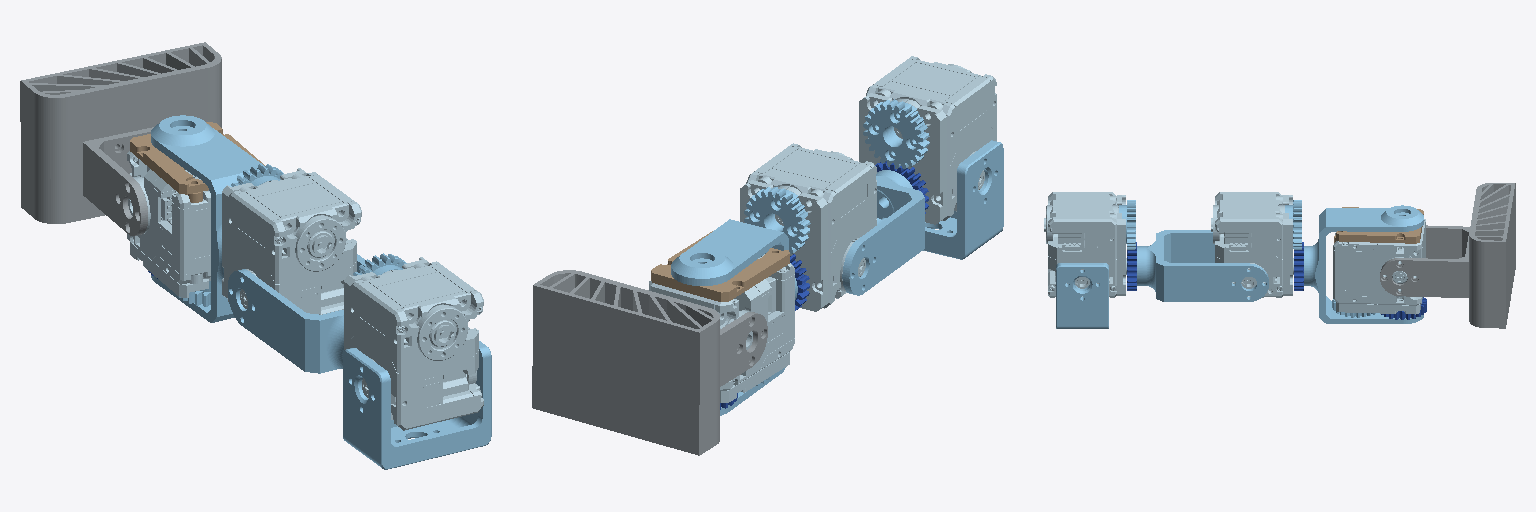
URDF robot description (left_arm_active):
<?xml version="1.0" ?><robot name="left_arm_active">  
  <link name="sho_pitch_link">    
    <visual>      
      <origin xyz="0 0 0" rpy="0 -0 0"/>      
      <geometry>        
        <mesh filename="package:///meshes/left_sho_pitch_link_visual.stl"/>        
      </geometry>      
      <material name="sho_pitch_link_material">        
        <color rgba="0.61568627450980395466 0.81176470588235294379 0.92941176470588227065 1.0"/>        
      </material>      
    </visual>    
    <collision>      
      <origin xyz="0 0 0" rpy="0 -0 0"/>      
      <geometry>        
        <mesh filename="package:///meshes/left_sho_pitch_link_collision.stl"/>        
      </geometry>      
    </collision>    
    <inertial>      
      <origin xyz="-1.025903438159899119e-18 -2.1966078074444220184e-18 0.012913250798677602602" rpy="0 0 0"/>      
      <mass value="0.0085999999999999982708"/>      
      <inertia ixx="1.8365636406635814379e-06" ixy="0" ixz="0" iyy="4.0110869076839152165e-06" iyz="0" izz="3.5160516450492493809e-06"/>      
    </inertial>    
  </link>  

  <link name="2xl430_gears">    
    <visual>      
      <origin xyz="0 0 0" rpy="0 -0 0"/>      
      <geometry>        
        <mesh filename="package:///meshes/left_2xl430_gears_visual.stl"/>        
      </geometry>      
      <material name="2xl430_gears_material">        
        <color rgba="0.75914767920569214965 0.85560384745670925444 0.90519468321360607721 1.0"/>        
      </material>      
    </visual>    
    <collision>      
      <origin xyz="0 0 0" rpy="0 -0 0"/>      
      <geometry>        
        <mesh filename="package:///meshes/left_2xl430_gears_collision.stl"/>        
      </geometry>      
    </collision>    
    <inertial>      
      <origin xyz="-0.011592905737981719708 -0.0024238553642539654651 -0.018551095523800652243" rpy="0 0 0"/>      
      <mass value="0.11800003674524911501"/>      
      <inertia ixx="2.7511021050425137297e-05" ixy="9.0043904315059743301e-07" ixz="-2.3349710123436745739e-08" iyy="3.2796197843345773501e-05" iyz="-6.5715119654595532665e-07" izz="3.577573983574187309e-05"/>      
    </inertial>    
  </link>  

  <link name="spur_1m_24t_drive">    
    <visual>      
      <origin xyz="0 0 0" rpy="0 -0 0"/>      
      <geometry>        
        <mesh filename="package:///meshes/left_spur_1m_24t_drive_visual.stl"/>        
      </geometry>      
      <material name="spur_1m_24t_drive_material">        
        <color rgba="0.61568627450980395466 0.81176470588235294379 0.92941176470588238168 1.0"/>        
      </material>      
    </visual>    
    <collision>      
      <origin xyz="0 0 0" rpy="0 -0 0"/>      
      <geometry>        
        <mesh filename="package:///meshes/left_spur_1m_24t_drive_collision.stl"/>        
      </geometry>      
    </collision>    
    <inertial>      
      <origin xyz="3.0326032611483892113e-15 -3.3912620811388928147e-16 0.0048096451474093108655" rpy="0 0 0"/>      
      <mass value="0.0031999999999999997197"/>      
      <inertia ixx="1.409759888701696132e-07" ixy="1.5562823114660456276e-15" ixz="-2.008449854153761406e-29" iyy="1.4097598803635996198e-07" iyz="1.6394294515261297612e-30" izz="2.4107776386988835496e-07"/>      
    </inertial>    
  </link>  

  <joint name="left_sho_yaw_drive" type="fixed">    
    <origin xyz="-0.024000000716141011575 -0.019000000152450600283 -0.019000000152443286688" rpy="1.5707963267948328312 -1.2315316060159674745e-15 7.63621479414374471e-14"/>    
    <parent link="2xl430_gears"/>    
    <child link="spur_1m_24t_drive"/>    
    <axis xyz="0 0 1"/>    
    <limit effort="1" velocity="20"/>    
    <joint_properties friction="0.0"/>    
  </joint>  

  <link name="spur_1m_24t_driven">    
    <visual>      
      <origin xyz="0 0 0" rpy="0 -0 0"/>      
      <geometry>        
        <mesh filename="package:///meshes/left_spur_1m_24t_driven_visual.stl"/>        
      </geometry>      
      <material name="spur_1m_24t_driven_material">        
        <color rgba="0.23137254901960788156 0.38039215686274502337 0.7058823529411765163 1.0"/>        
      </material>      
    </visual>    
    <collision>      
      <origin xyz="0 0 0" rpy="0 -0 0"/>      
      <geometry>        
        <mesh filename="package:///meshes/left_spur_1m_24t_driven_collision.stl"/>        
      </geometry>      
    </collision>    
    <inertial>      
      <origin xyz="-6.1597507571280238057e-18 -1.688384205958136519e-15 -0.00097237500038395777158" rpy="0 0 0"/>      
      <mass value="0.0026999999999999997093"/>      
      <inertia ixx="1.2202334915684085792e-07" ixy="2.7523294133209990513e-36" ixz="-7.3269571490458995975e-30" iyy="1.2202334915684064616e-07" iyz="2.3906142240509615961e-38" izz="2.3180293204341252239e-07"/>      
    </inertial>    
  </link>  

  <link name="sho_yaw_link">    
    <visual>      
      <origin xyz="0 0 0" rpy="0 -0 0"/>      
      <geometry>        
        <mesh filename="package:///meshes/left_sho_yaw_link_visual.stl"/>        
      </geometry>      
      <material name="sho_yaw_link_material">        
        <color rgba="0.61568627450980395466 0.81176470588235294379 0.92941176470588238168 1.0"/>        
      </material>      
    </visual>    
    <collision>      
      <origin xyz="0 0 0" rpy="0 -0 0"/>      
      <geometry>        
        <mesh filename="package:///meshes/left_sho_yaw_link_collision.stl"/>        
      </geometry>      
    </collision>    
    <inertial>      
      <origin xyz="-1.3035750898319770195e-18 2.6069328434161451193e-18 -0.024649285094360082193" rpy="0 0 0"/>      
      <mass value="0.014500000000000007674"/>      
      <inertia ixx="9.2365904614004473434e-06" ixy="3.5862833440690462015e-13" ixz="9.1428418910883641815e-28" iyy="5.8163826335078791714e-06" iyz="3.2690928711022967479e-35" izz="4.5074356741562122031e-06"/>      
    </inertial>    
  </link>  

  <link name="2xl430_gears_2">    
    <visual>      
      <origin xyz="0 0 0" rpy="0 -0 0"/>      
      <geometry>        
        <mesh filename="package:///meshes/left_2xl430_gears_2_visual.stl"/>        
      </geometry>      
      <material name="2xl430_gears_2_material">        
        <color rgba="0.75914767920569214965 0.85560384745670925444 0.90519468321360607721 1.0"/>        
      </material>      
    </visual>    
    <collision>      
      <origin xyz="0 0 0" rpy="0 -0 0"/>      
      <geometry>        
        <mesh filename="package:///meshes/left_2xl430_gears_2_collision.stl"/>        
      </geometry>      
    </collision>    
    <inertial>      
      <origin xyz="-0.011592905737977830458 -0.0024238553642531319304 -0.018551095523810002402" rpy="0 0 0"/>      
      <mass value="0.11800003674524911501"/>      
      <inertia ixx="2.7511021050425449005e-05" ixy="9.0043904315422929852e-07" ixz="-2.3349710124855247993e-08" iyy="3.2796197843347501448e-05" iyz="-6.5715119654968301277e-07" izz="3.577573983574221868e-05"/>      
    </inertial>    
  </link>  

  <link name="spur_1m_24t_drive_2">    
    <visual>      
      <origin xyz="0 0 0" rpy="0 -0 0"/>      
      <geometry>        
        <mesh filename="package:///meshes/left_spur_1m_24t_drive_2_visual.stl"/>        
      </geometry>      
      <material name="spur_1m_24t_drive_2_material">        
        <color rgba="0.61568627450980395466 0.81176470588235294379 0.92941176470588238168 1.0"/>        
      </material>      
    </visual>    
    <collision>      
      <origin xyz="0 0 0" rpy="0 -0 0"/>      
      <geometry>        
        <mesh filename="package:///meshes/left_spur_1m_24t_drive_2_collision.stl"/>        
      </geometry>      
    </collision>    
    <inertial>      
      <origin xyz="3.0326032635612721456e-15 -3.3912620813973872492e-16 0.0048096451474093134676" rpy="0 0 0"/>      
      <mass value="0.0031999999999999997197"/>      
      <inertia ixx="1.4097598887016953379e-07" ixy="1.5562823114943523235e-15" ixz="-4.6297932308656121067e-28" iyy="1.4097598803635996198e-07" iyz="2.2330386657934582872e-29" izz="2.4107776386988835496e-07"/>      
    </inertial>    
  </link>  

  <joint name="left_elbow_yaw_drive" type="fixed">    
    <origin xyz="-0.024000000716137552537 -0.019000000152447502066 -0.019000000152459547986" rpy="1.5707963267950562081 -2.470655165606289817e-13 -1.8325179468455831644e-13"/>    
    <parent link="2xl430_gears_2"/>    
    <child link="spur_1m_24t_drive_2"/>    
    <axis xyz="0 0 1"/>    
    <limit effort="1" velocity="20"/>    
    <joint_properties friction="0.0"/>    
  </joint>  

  <link name="spur_1m_24t_driven_2">    
    <visual>      
      <origin xyz="0 0 0" rpy="0 -0 0"/>      
      <geometry>        
        <mesh filename="package:///meshes/left_spur_1m_24t_driven_2_visual.stl"/>        
      </geometry>      
      <material name="spur_1m_24t_driven_2_material">        
        <color rgba="0.23137254901960788156 0.38039215686274502337 0.7058823529411765163 1.0"/>        
      </material>      
    </visual>    
    <collision>      
      <origin xyz="0 0 0" rpy="0 -0 0"/>      
      <geometry>        
        <mesh filename="package:///meshes/left_spur_1m_24t_driven_2_collision.stl"/>        
      </geometry>      
    </collision>    
    <inertial>      
      <origin xyz="-2.6919984763826045554e-18 -1.6851535667301797593e-15 -0.00097237500038395083268" rpy="0 0 0"/>      
      <mass value="0.0026999999999999997093"/>      
      <inertia ixx="1.2202334915684080498e-07" ixy="-1.4158378337979601932e-26" ixz="-1.6652141981526740106e-31" iyy="1.2202334915684064616e-07" iyz="-6.1216890803012590929e-29" izz="2.3180293204341252239e-07"/>      
    </inertial>    
  </link>  

  <link name="elb_yaw_link">    
    <visual>      
      <origin xyz="0 0 0" rpy="0 -0 0"/>      
      <geometry>        
        <mesh filename="package:///meshes/left_elb_yaw_link_visual.stl"/>        
      </geometry>      
      <material name="elb_yaw_link_material">        
        <color rgba="0.61568627450980395466 0.81176470588235294379 0.92941176470588227065 1.0"/>        
      </material>      
    </visual>    
    <collision>      
      <origin xyz="0 0 0" rpy="0 -0 0"/>      
      <geometry>        
        <mesh filename="package:///meshes/left_elb_yaw_link_collision.stl"/>        
      </geometry>      
    </collision>    
    <inertial>      
      <origin xyz="5.3127688027775035015e-08 0.0019833638641961613865 -0.023416643551549952418" rpy="0 0 0"/>      
      <mass value="0.017500000000000005135"/>      
      <inertia ixx="1.4134344903109199776e-05" ixy="1.6945783922010719072e-12" ixz="-1.1286398721833085835e-11" iyy="6.6435900776211340404e-06" iyz="1.0545227077253051227e-06" izz="8.9925290757998993713e-06"/>      
    </inertial>    
  </link>  

  <link name="spur_1m_24t_driven_3">    
    <visual>      
      <origin xyz="0 0 0" rpy="0 -0 0"/>      
      <geometry>        
        <mesh filename="package:///meshes/left_spur_1m_24t_driven_3_visual.stl"/>        
      </geometry>      
      <material name="spur_1m_24t_driven_3_material">        
        <color rgba="0.23137254901960788156 0.38039215686274502337 0.7058823529411765163 1.0"/>        
      </material>      
    </visual>    
    <collision>      
      <origin xyz="0 0 0" rpy="0 -0 0"/>      
      <geometry>        
        <mesh filename="package:///meshes/left_spur_1m_24t_driven_3_collision.stl"/>        
      </geometry>      
    </collision>    
    <inertial>      
      <origin xyz="-2.6903273536523174272e-18 -1.6883828105019308173e-15 -0.0025723750003839550293" rpy="0 0 0"/>      
      <mass value="0.0026999999999999997093"/>      
      <inertia ixx="1.2202334915684080498e-07" ixy="-6.8849887603967411276e-32" ixz="-2.6410010759070278003e-28" iyy="1.2202334915684059322e-07" iyz="2.0286938869726816775e-26" izz="2.3180293204341252239e-07"/>      
    </inertial>    
  </link>  

  <link name="2xl430_gears_3">    
    <visual>      
      <origin xyz="0 0 0" rpy="0 -0 0"/>      
      <geometry>        
        <mesh filename="package:///meshes/left_2xl430_gears_3_visual.stl"/>        
      </geometry>      
      <material name="2xl430_gears_3_material">        
        <color rgba="0.75914767920569214965 0.85560384745670925444 0.90519468321360607721 1.0"/>        
      </material>      
    </visual>    
    <collision>      
      <origin xyz="0 0 0" rpy="0 -0 0"/>      
      <geometry>        
        <mesh filename="package:///meshes/left_2xl430_gears_3_collision.stl"/>        
      </geometry>      
    </collision>    
    <inertial>      
      <origin xyz="0.00044890447620203518522 0.011592905379898215887 -0.024576144788197726992" rpy="0 0 0"/>      
      <mass value="0.11800003674524911501"/>      
      <inertia ixx="3.5775739835741527501e-05" ixy="2.3349710123577267181e-08" ixz="6.571511965489162362e-07" iyy="2.7511021050426404458e-05" iyz="9.0043904315389906155e-07" izz="3.2796197843345726067e-05"/>      
    </inertial>    
  </link>  

  <link name="spur_1m_24t_drive_3">    
    <visual>      
      <origin xyz="0 0 0" rpy="0 -0 0"/>      
      <geometry>        
        <mesh filename="package:///meshes/left_spur_1m_24t_drive_3_visual.stl"/>        
      </geometry>      
      <material name="spur_1m_24t_drive_3_material">        
        <color rgba="0.61568627450980395466 0.81176470588235294379 0.92941176470588238168 1.0"/>        
      </material>      
    </visual>    
    <collision>      
      <origin xyz="0 0 0" rpy="0 -0 0"/>      
      <geometry>        
        <mesh filename="package:///meshes/left_spur_1m_24t_drive_3_collision.stl"/>        
      </geometry>      
    </collision>    
    <inertial>      
      <origin xyz="3.060358827889013058e-15 -3.4111303900242703925e-16 0.0048096451474093065287" rpy="0 0 0"/>      
      <mass value="0.0031999999999999997197"/>      
      <inertia ixx="1.4097598887016953379e-07" ixy="1.5562823135089737022e-15" ixz="-1.1512514101231046835e-27" iyy="1.4097598803635998845e-07" iyz="2.2291261639049831572e-27" izz="2.4107776386988835496e-07"/>      
    </inertial>    
  </link>  

  <joint name="left_wrist_pitch_drive" type="fixed">    
    <origin xyz="-1.524411534503666843e-10 0.024000000358058687366 -0.0080000000000068870187" rpy="9.3688325669630329923e-15 -2.4754144734777612982e-13 -1.570796326794971387"/>    
    <parent link="2xl430_gears_3"/>    
    <child link="spur_1m_24t_drive_3"/>    
    <axis xyz="0 0 1"/>    
    <limit effort="1" velocity="20"/>    
    <joint_properties friction="0.0"/>    
  </joint>  

  <link name="hand">    
    <visual>      
      <origin xyz="0 0 0" rpy="0 -0 0"/>      
      <geometry>        
        <mesh filename="package:///meshes/left_hand_visual.stl"/>        
      </geometry>      
      <material name="hand_material">        
        <color rgba="0.6414991312980887761 0.67624720774385704836 0.69709605361131787848 1.0"/>        
      </material>      
    </visual>    
    <collision>      
      <origin xyz="0 0 0" rpy="0 -0 0"/>      
      <geometry>        
        <mesh filename="package:///meshes/left_hand_collision.stl"/>        
      </geometry>      
    </collision>    
    <inertial>      
      <origin xyz="-0.0037132560743682236672 0.042135580180293723263 -0.019513129422372363364" rpy="0 0 0"/>      
      <mass value="0.039500000000000000389"/>      
      <inertia ixx="2.4655505305536037772e-05" ixy="6.2292690516536515991e-07" ixz="-1.3905202790257463006e-08" iyy="2.5499495709674586328e-05" iyz="4.0482284361505544926e-08" izz="1.3476712281039084689e-05"/>      
    </inertial>    
  </link>  

  <joint name="left_wrist_roll" type="revolute">    
    <origin xyz="0.019000000000007864764 -3.580815921555569048e-10 -0.027000000152448074692" rpy="-3.141592653589793116 -1.5707963267945825869 0"/>    
    <parent link="2xl430_gears_3"/>    
    <child link="hand"/>    
    <axis xyz="0 0 1"/>    
    <limit effort="1" velocity="20" lower="-1.9198621771937625091" upper="1.3962634015954635824"/>    
    <joint_properties friction="0.0"/>    
  </joint>  

  <link name="wrist_bearing_plate">    
    <visual>      
      <origin xyz="0 0 0" rpy="0 -0 0"/>      
      <geometry>        
        <mesh filename="package:///meshes/left_wrist_bearing_plate_visual.stl"/>        
      </geometry>      
      <material name="wrist_bearing_plate_material">        
        <color rgba="0.71932243125689054875 0.63128434304969727187 0.52422389360984933404 1.0"/>        
      </material>      
    </visual>    
    <collision>      
      <origin xyz="0 0 0" rpy="0 -0 0"/>      
      <geometry>        
        <mesh filename="package:///meshes/left_wrist_bearing_plate_collision.stl"/>        
      </geometry>      
    </collision>    
    <inertial>      
      <origin xyz="-0.007583558312149987074 -0.015499999999999972133 -0.0018386323705903283732" rpy="0 0 0"/>      
      <mass value="0.0049000367468305557062"/>      
      <inertia ixx="4.9707430109150107956e-07" ixy="5.8442651625198521782e-23" ixz="1.8100904820814022013e-08" iyy="7.1268523603538521295e-07" iyz="1.0938305468180491225e-23" izz="1.1919657811600107117e-06"/>      
    </inertial>    
  </link>  

  <joint name="left_wrist_pitch_fixed" type="fixed">    
    <origin xyz="0.015500000000007483486 -1.7374990335383699858e-14 -0.044999999999998908928" rpy="4.0578672398099256913e-14 -2.8213543071750907979e-13 -1.570796326794906328"/>    
    <parent link="2xl430_gears_3"/>    
    <child link="wrist_bearing_plate"/>    
    <axis xyz="0 0 1"/>    
    <limit effort="1" velocity="20"/>    
    <joint_properties friction="0.0"/>    
  </joint>  

  <joint name="left_wrist_pitch" type="revolute">    
    <origin xyz="0 -1.3383120566617945357e-18 -0.0015999999999999961735" rpy="-2.8942931320395828399e-14 -2.5018666387969439484e-14 -1.5029360097675703578"/>    
    <parent link="spur_1m_24t_driven_3"/>    
    <child link="2xl430_gears_3"/>    
    <axis xyz="0 0 1"/>    
    <limit effort="1" velocity="20" lower="-1.3962634015954635824" upper="1.9198621771937625091"/>    
    <joint_properties friction="0.0"/>    
  </joint>  

  <joint name="left_wrist_roll_fixed" type="fixed">    
    <origin xyz="-1.6940658945086006781e-21 -0.025299999999999999573 -0.052000000000000032307" rpy="1.5707963267949238695 -1.5707963267948696906 0"/>    
    <parent link="elb_yaw_link"/>    
    <child link="spur_1m_24t_driven_3"/>    
    <axis xyz="0 0 1"/>    
    <limit effort="1" velocity="20"/>    
    <joint_properties friction="0.0"/>    
  </joint>  

  <joint name="left_elbow_yaw_fixed" type="fixed">    
    <origin xyz="0 3.4694469519536141888e-18 0.0015999999999999903189" rpy="3.141592653589793116 1.7371588856516367895e-15 -7.1482908950121119081e-21"/>    
    <parent link="spur_1m_24t_driven_2"/>    
    <child link="elb_yaw_link"/>    
    <axis xyz="0 0 1"/>    
    <limit effort="1" velocity="20"/>    
    <joint_properties friction="0.0"/>    
  </joint>  

  <joint name="left_elbow_yaw" type="revolute">    
    <origin xyz="-3.5806394654835926872e-10 -0.027000000152452907631 -0.019000000000006612294" rpy="-1.5707963271033555941 1.5702961013580483129 3.1415926532772431301"/>    
    <parent link="2xl430_gears_2"/>    
    <child link="spur_1m_24t_driven_2"/>    
    <axis xyz="0 0 1"/>    
    <limit effort="1" velocity="20" lower="-2.6179938779914944114" upper="2.6179938779914944114"/>    
    <joint_properties friction="0.0"/>    
  </joint>  

  <joint name="left_elbow_roll" type="revolute">    
    <origin xyz="0 -0.019000000000000002998 -0.05900000000000000383" rpy="1.570796326794896558 -9.1511985033140475399e-06 9.9917328930995459489e-16"/>    
    <parent link="sho_yaw_link"/>    
    <child link="2xl430_gears_2"/>    
    <axis xyz="0 0 1"/>    
    <limit effort="1" velocity="20" lower="-1.9198621771937625091" upper="2.4434609527920612138"/>    
    <joint_properties friction="0.0"/>    
  </joint>  

  <joint name="left_sho_yaw_fixed" type="fixed">    
    <origin xyz="-6.9388939039072283776e-18 0 0.0015999999999999972577" rpy="-3.1415926535897917837 7.771562309448331808e-16 7.7715611725339221982e-16"/>    
    <parent link="spur_1m_24t_driven"/>    
    <child link="sho_yaw_link"/>    
    <axis xyz="0 0 1"/>    
    <limit effort="1" velocity="20"/>    
    <joint_properties friction="0.0"/>    
  </joint>  

  <joint name="left_sho_yaw" type="revolute">    
    <origin xyz="-3.5807029216683439188e-10 -0.027000000152450923108 -0.018999999999999881567" rpy="1.5707963267948492625 7.0146039834906763197e-14 9.489446512533569504e-14"/>    
    <parent link="2xl430_gears"/>    
    <child link="spur_1m_24t_driven"/>    
    <axis xyz="0 0 1"/>    
    <limit effort="1" velocity="20" lower="-2.6179938779914944114" upper="2.6179938779914944114"/>    
    <joint_properties friction="0.0"/>    
  </joint>  

  <joint name="left_sho_roll" type="revolute">    
    <origin xyz="-0.018999999999999999528 1.0056362270253492431e-17 0.027000000000000003164" rpy="3.141592653589793116 1.5707956970996790336 0"/>    
    <parent link="sho_pitch_link"/>    
    <child link="2xl430_gears"/>    
    <axis xyz="0 0 1"/>    
    <limit effort="1" velocity="20" lower="-1.570796326794896558" upper="0.34906585039886589561"/>    
    <joint_properties friction="0.0"/>    
  </joint>  


</robot>

--- What the picture shows (computed from the rendered views, not written in the file) ---
3 views of the same robot in one strip: view 1: azimuth 30°, elevation 25°; view 2: azimuth 150°, elevation 25°; view 3: azimuth 270°, elevation 25° (orthographic).
Robot: left_arm_active — 14 links, 13 joints (6 revolute, 7 fixed); root link sho_pitch_link; default pose: every joint at zero.
Links seen in each view (by area): view 1: hand, 2xl430_gears, 2xl430_gears_2, sho_pitch_link, 2xl430_gears_3, sho_yaw_link, elb_yaw_link, wrist_bearing_plate, spur_1m_24t_drive, spur_1m_24t_drive_2; view 2: hand, 2xl430_gears, 2xl430_gears_2, sho_yaw_link, 2xl430_gears_3, sho_pitch_link, elb_yaw_link, spur_1m_24t_drive, wrist_bearing_plate, spur_1m_24t_drive_2, spur_1m_24t_driven, spur_1m_24t_driven_2; view 3: hand, sho_yaw_link, 2xl430_gears_2, 2xl430_gears, 2xl430_gears_3, elb_yaw_link, sho_pitch_link, wrist_bearing_plate, spur_1m_24t_drive, spur_1m_24t_drive_2.
Link boxes in pixels (bbox=[...]): hand: bbox=[20, 42, 221, 235]; 2xl430_gears: bbox=[344, 257, 483, 430]; 2xl430_gears_2: bbox=[222, 168, 361, 314]; sho_pitch_link: bbox=[343, 341, 491, 469]; 2xl430_gears_3: bbox=[127, 151, 210, 297]; sho_yaw_link: bbox=[228, 254, 365, 373]; elb_yaw_link: bbox=[151, 115, 262, 322]; wrist_bearing_plate: bbox=[130, 122, 264, 202]; spur_1m_24t_drive: bbox=[353, 253, 406, 275]; spur_1m_24t_drive_2: bbox=[231, 164, 283, 186]; hand: bbox=[532, 270, 767, 455]; 2xl430_gears: bbox=[859, 56, 996, 224]; 2xl430_gears_2: bbox=[740, 143, 876, 311]; sho_yaw_link: bbox=[842, 170, 924, 295]; 2xl430_gears_3: bbox=[649, 254, 794, 402]; sho_pitch_link: bbox=[923, 140, 1003, 259]; elb_yaw_link: bbox=[671, 219, 797, 415]; spur_1m_24t_drive: bbox=[863, 99, 929, 168]; wrist_bearing_plate: bbox=[651, 231, 789, 301]; spur_1m_24t_drive_2: bbox=[744, 187, 810, 253]; spur_1m_24t_driven: bbox=[875, 161, 928, 213]; spur_1m_24t_driven_2: bbox=[790, 254, 809, 310]; hand: bbox=[1380, 183, 1515, 328]; sho_yaw_link: bbox=[1137, 230, 1268, 301]; 2xl430_gears_2: bbox=[1211, 192, 1293, 297]; 2xl430_gears: bbox=[1044, 192, 1126, 297]; 2xl430_gears_3: bbox=[1333, 219, 1425, 314]; elb_yaw_link: bbox=[1304, 205, 1423, 323]; sho_pitch_link: bbox=[1056, 263, 1108, 328]; wrist_bearing_plate: bbox=[1334, 207, 1423, 243]; spur_1m_24t_drive: bbox=[1119, 200, 1135, 249]; spur_1m_24t_drive_2: bbox=[1285, 200, 1301, 249].
Size in the robot's own frame: 0.0746 by 0.2476 by 0.0652 metres.
14 mesh visuals loaded from 14 distinct referenced files (14 binary STL).